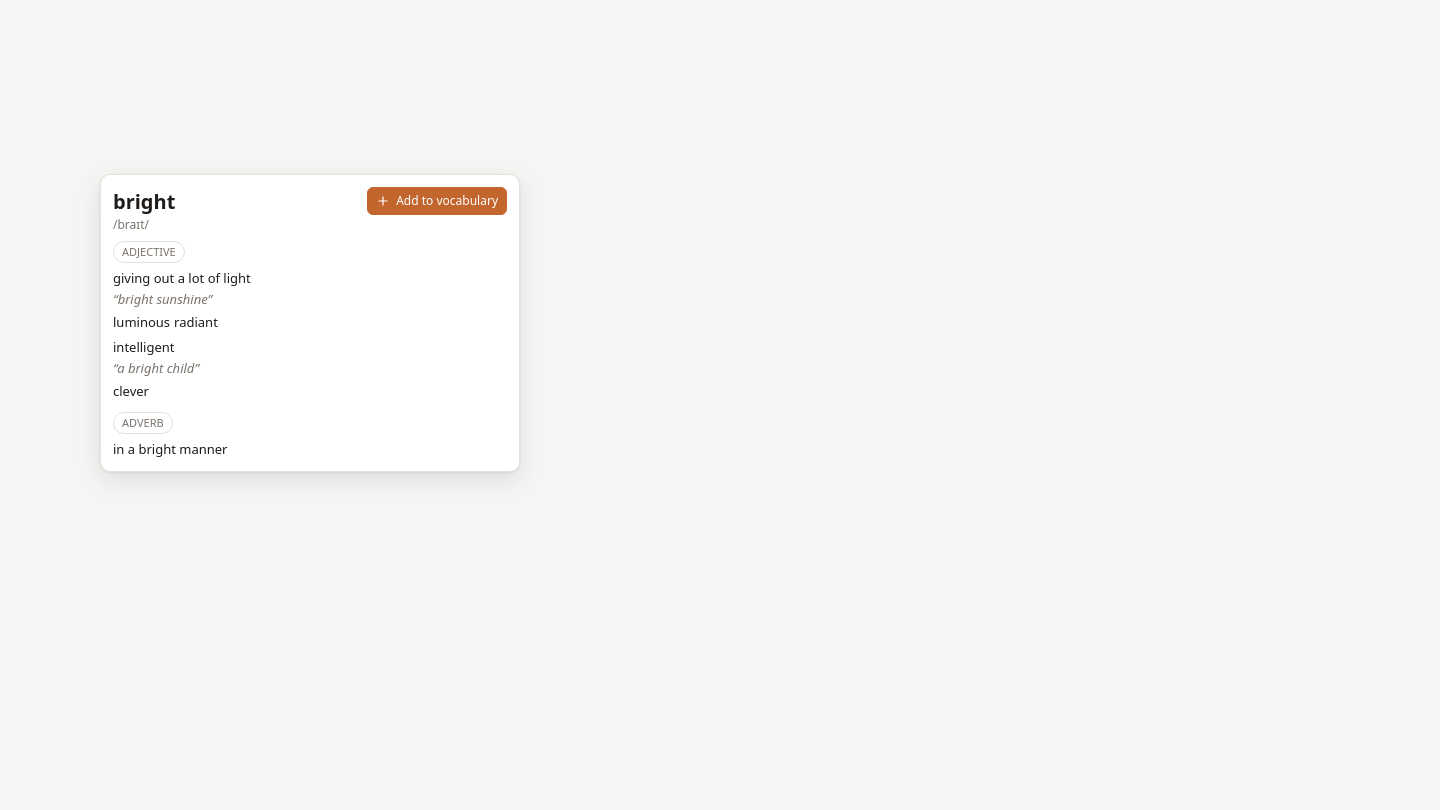
Test: DictPopup › re-runs the lookup for a clicked synonym
expect the text "giving out a lot of light" is shown: met, box [113,269,251,287]
Click the button "luminous" at (142, 322), box [113,313,170,332]
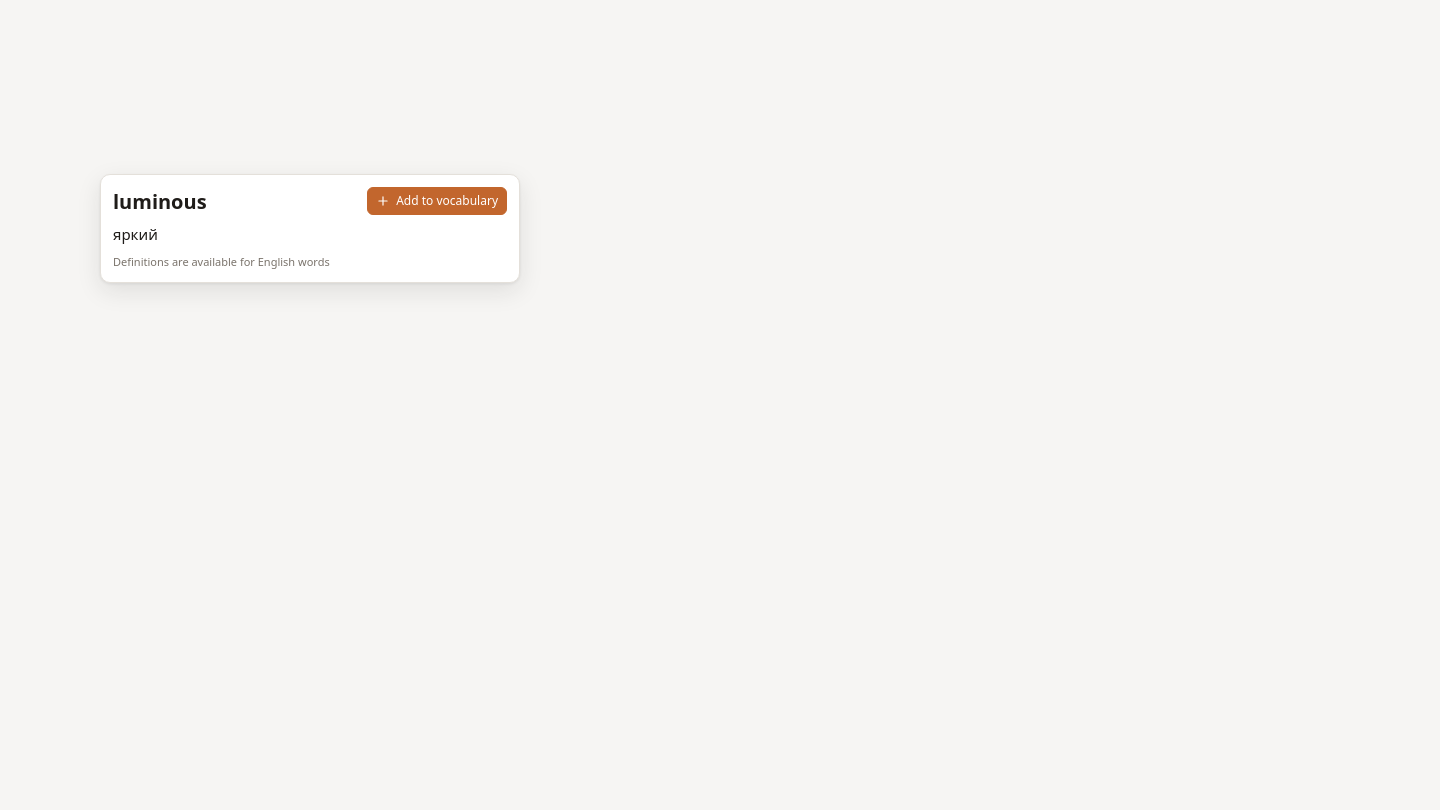
expect the heading "luminous" is shown: met, box [113,187,207,216]
